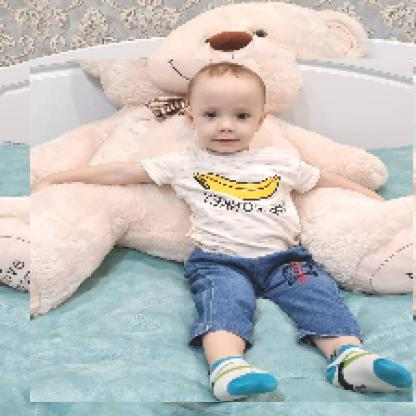child: (31, 60, 415, 404)
